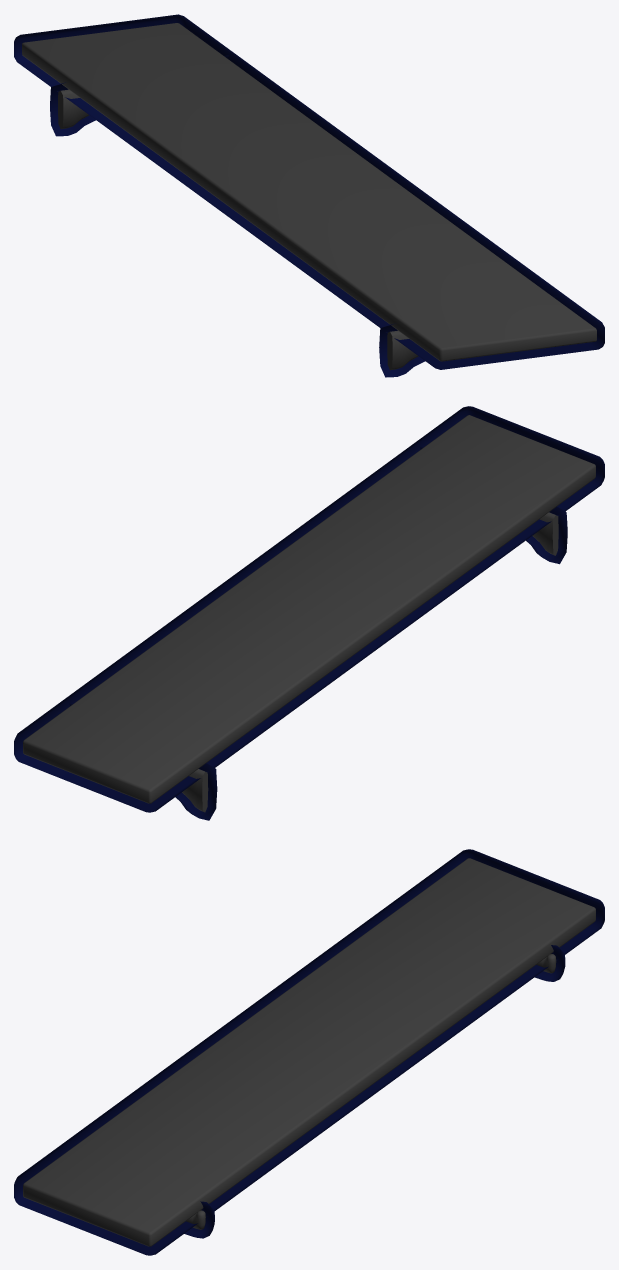
The picture shows the model from 3 angles, top to bottom: view 1: azimuth 30°, elevation 25°; view 2: azimuth 150°, elevation 25°; view 3: azimuth 330°, elevation 25°; orthographic projection. The views are drawn at different scales.
Parts seen in each view (by area): view 1: Shelf_Long; view 2: Shelf_Long; view 3: Shelf_Long.
Part boxes in pixels (x1=…): Shelf_Long: x1=14, y1=14, x2=604, y2=377; Shelf_Long: x1=14, y1=406, x2=604, y2=820; Shelf_Long: x1=14, y1=849, x2=604, y2=1255.
Bounding box in the file's own units: 0.2925 × 0.1124 × 1.34.
